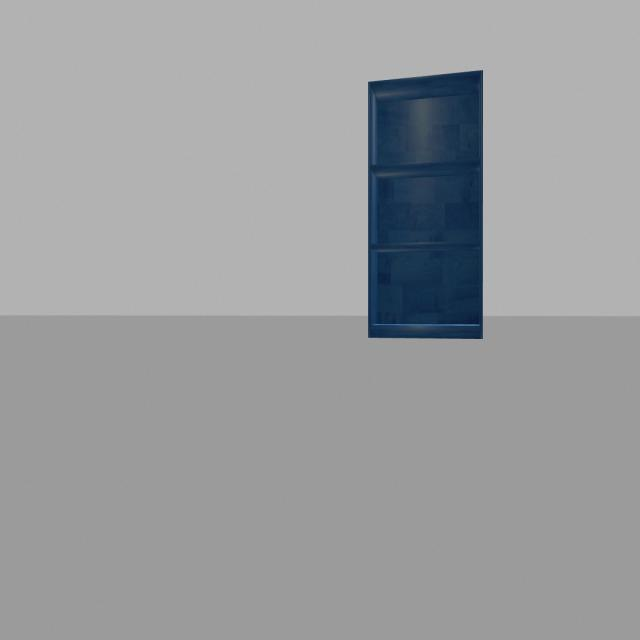shelf: (355, 58, 495, 370)
